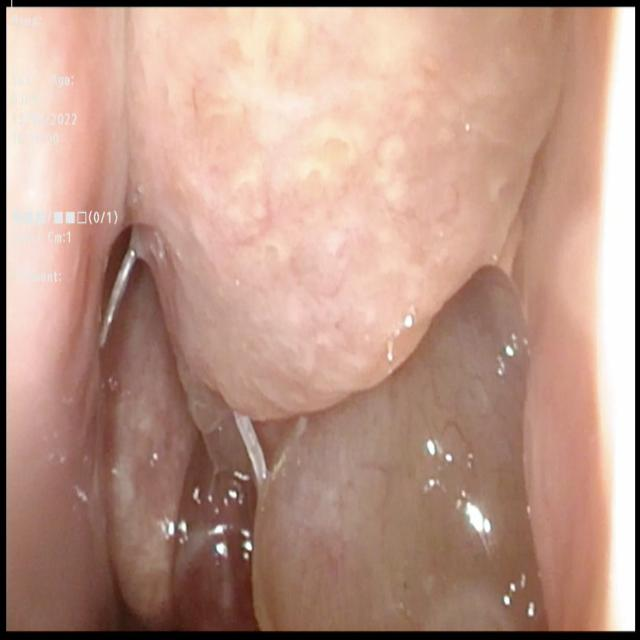OPENING: (86, 220, 205, 632)
POLYPS: (121, 30, 551, 404), (254, 292, 538, 639), (92, 233, 189, 618)
